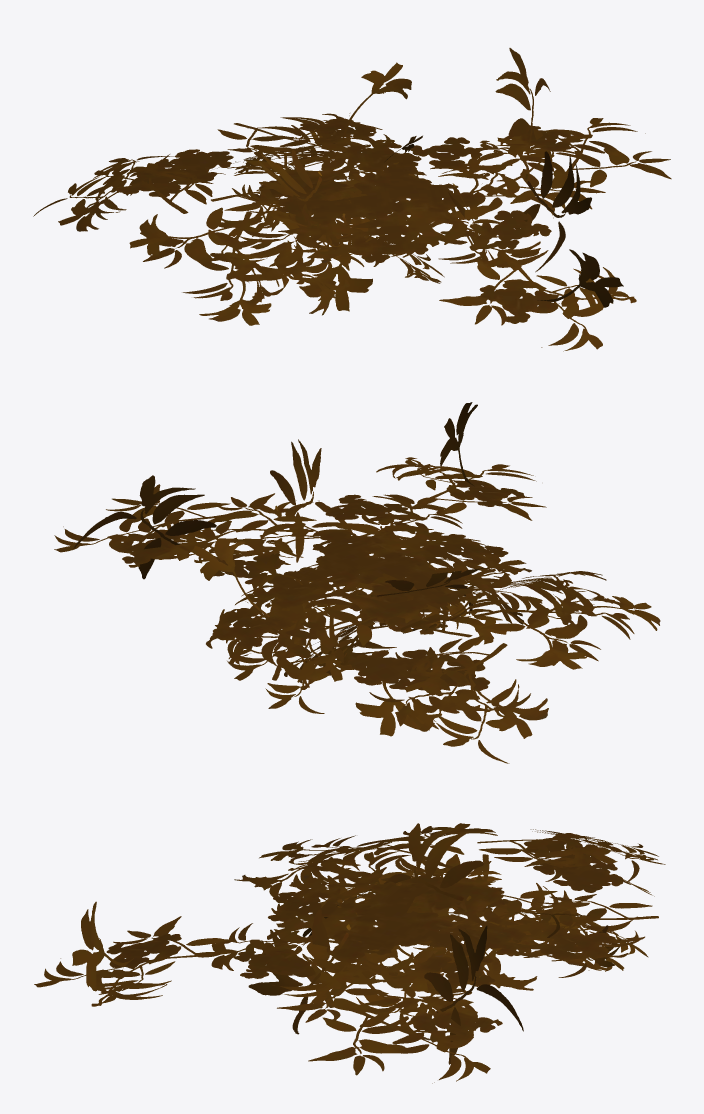
3 renders of one model, top to bottom at view 1: azimuth 30°, elevation 25°; view 2: azimuth 150°, elevation 25°; view 3: azimuth 270°, elevation 25°, orthographic. The views are drawn at different scales.
Parts seen in each view (by area): view 1: SM_DR_Leaf_Piles_03_LOD0; view 2: SM_DR_Leaf_Piles_03_LOD0; view 3: SM_DR_Leaf_Piles_03_LOD0.
Boxes of the visible parts, left/top/right/bottom form: SM_DR_Leaf_Piles_03_LOD0: left=33, top=48, right=671, bottom=351; SM_DR_Leaf_Piles_03_LOD0: left=54, top=402, right=660, bottom=763; SM_DR_Leaf_Piles_03_LOD0: left=34, top=823, right=665, bottom=1083.
Size of the model in its own units: 0.8244 by 0.2712 by 0.8195.
1 material, 1 textured.
